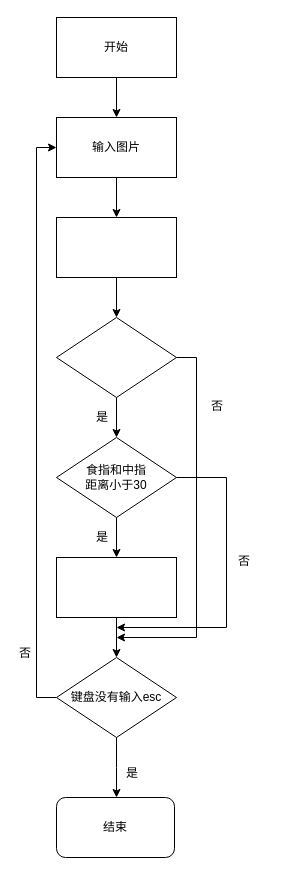
This 283x875 diagram has some shape labels left out. Each missing label, with the centre of its shape:
按下按键: the point at 116,587
获取手掌关键点坐标: the point at 116,247
食指在某个按键上: the point at 116,357
